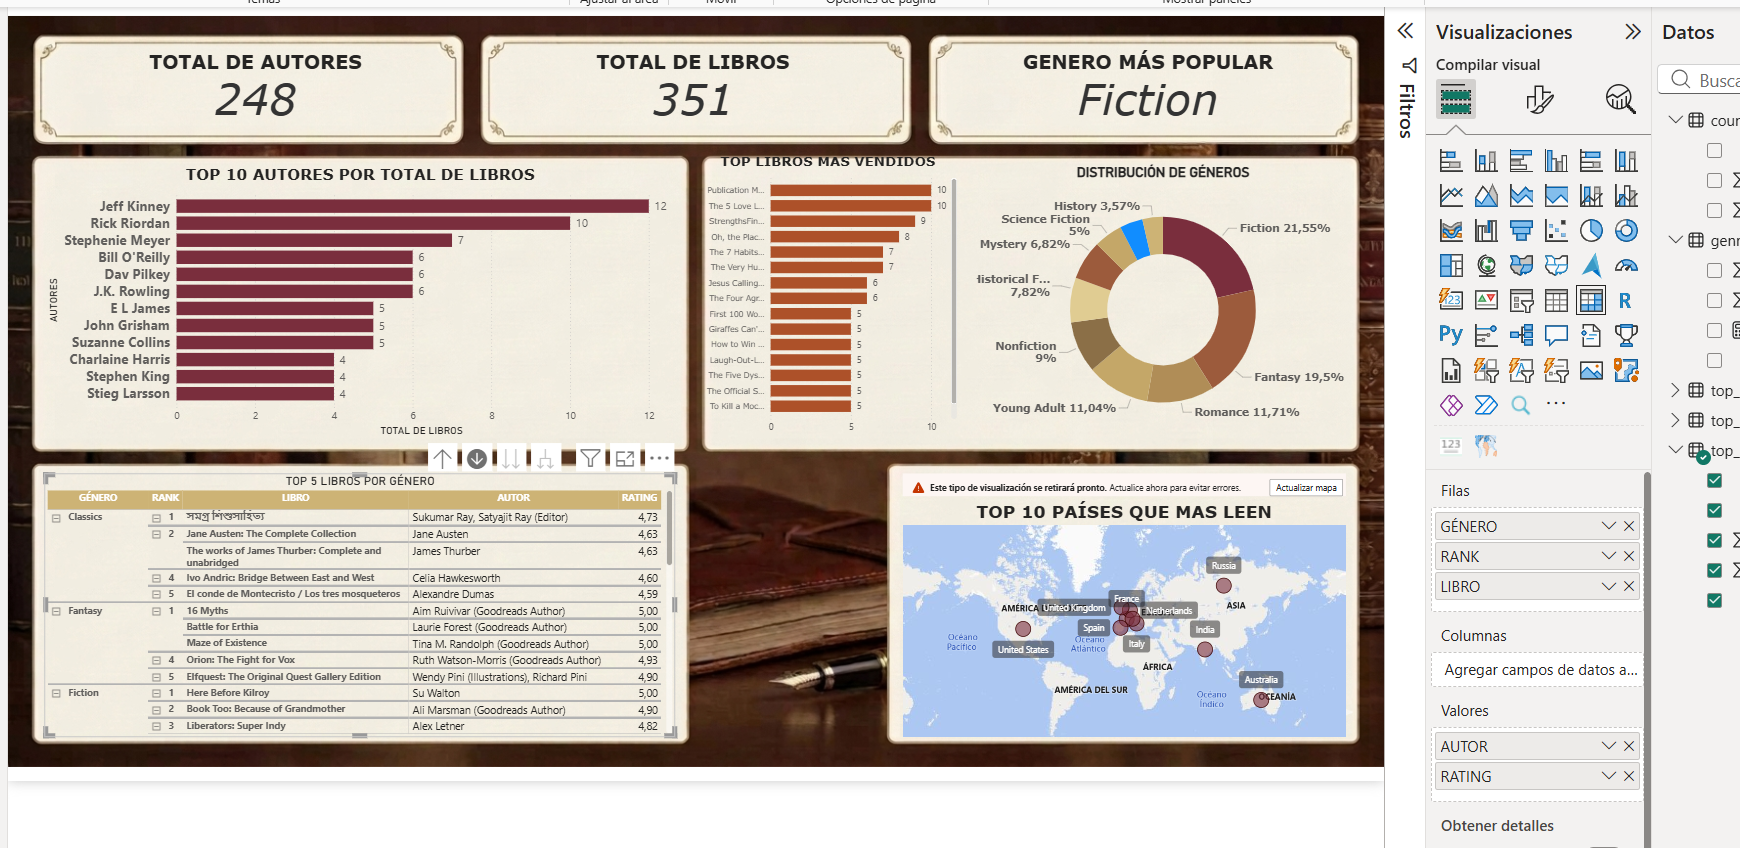

The dashboard page shown, as its layout file describes it:
{"tool":"powerbi","page":{"name":"Página 1","canvas":[1920,1080],"ordinal":0},"visuals":[{"type":"advanceCardE03760C5AB684758B56AA29F9E6C257B","title":"TOTAL DE AUTORES","fields":{"mainMeasure":["top_authors.Total Autores Bestseller"]},"box":[106,60,478,106],"z":0},{"type":"advanceCardE03760C5AB684758B56AA29F9E6C257B","title":"TOTAL DE LIBROS","fields":{"mainMeasure":["top_books.Total Libros Bestseller"]},"box":[696,60,520,106],"z":1000},{"type":"advanceCardE03760C5AB684758B56AA29F9E6C257B","title":"GENERO MÁS POPULAR","fields":{"mainMeasure":["genre_distribution.Genero Mas Popular"]},"box":[1352,60,478,106],"z":2000},{"type":"clusteredBarChart","title":"TOP 10 AUTORES POR TOTAL DE LIBROS","fields":{"Category":["top_authors.author"],"Y":["top_books.Total Libros Bestseller"]},"box":[50,220,882,384],"z":3000},{"type":"donutChart","title":"DISTRIBUCIÓN DE GÉNEROS","fields":{"Category":["genre_distribution.genre"],"Y":["Sum(genre_distribution.book_count)"]},"box":[1352,220,520,384],"z":4000},{"type":"clusteredBarChart","title":"TOP LIBROS MAS VENDIDOS","fields":{"Category":["top_books.name"],"Y":["Sum(top_books.years_as_bestseller)"]},"box":[960,204,370,400],"z":5000},{"type":"map","title":"TOP 10 PAÍSES QUE MAS LEEN","fields":{"Category":["country_reading.country"],"Size":["CountNonNull(country_reading.country)"]},"box":[1244,650,628,368],"z":6000},{"type":"pivotTable","title":"TOP 5 LIBROS POR GÉNERO","fields":{"Rows":["top_books_by_genre.genre","top_books_by_genre.rank","top_books_by_genre.title"],"Values":["Min(top_books_by_genre.author)","Sum(top_books_by_genre.rating)"]},"box":[50,650,882,368],"z":6001}]}

Visuals, with their boxes in screenshot pixels (x1, y1, x2, y2):
"TOTAL DE AUTORES" advanceCardE03760C5AB684758B56AA29F9E6C257B: rect(46, 24, 416, 106)
"TOTAL DE LIBROS" advanceCardE03760C5AB684758B56AA29F9E6C257B: rect(502, 24, 905, 106)
"GENERO MÁS POPULAR" advanceCardE03760C5AB684758B56AA29F9E6C257B: rect(1010, 24, 1380, 106)
"TOP 10 AUTORES POR TOTAL DE LIBROS" clusteredBarChart: rect(2, 148, 685, 445)
"DISTRIBUCIÓN DE GÉNEROS" donutChart: rect(1010, 148, 1412, 445)
"TOP LIBROS MAS VENDIDOS" clusteredBarChart: rect(707, 135, 993, 445)
"TOP 10 PAÍSES QUE MAS LEEN" map: rect(926, 480, 1412, 765)
"TOP 5 LIBROS POR GÉNERO" pivotTable: rect(2, 480, 685, 765)
